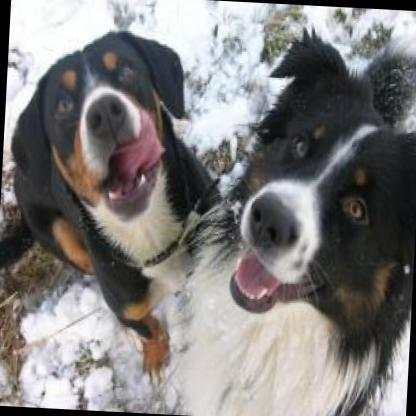EntleBucher: (165, 20, 416, 416), (0, 12, 223, 383)
